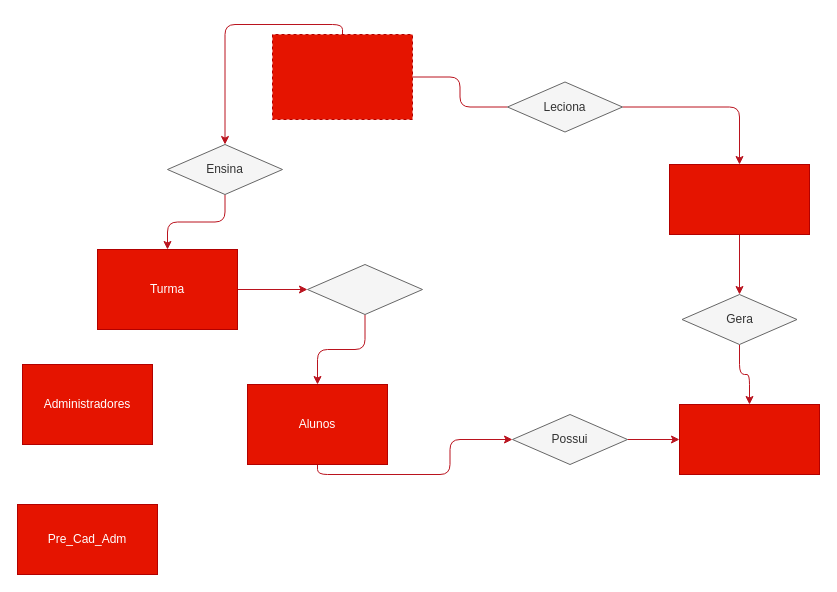
This 837x592 diagram has some shape labels left out. Each missing label, with the centre of its shape:
Contem: [364,289]
Disciplina: [739,199]
Notas: [749,439]
Professor: [342,77]
